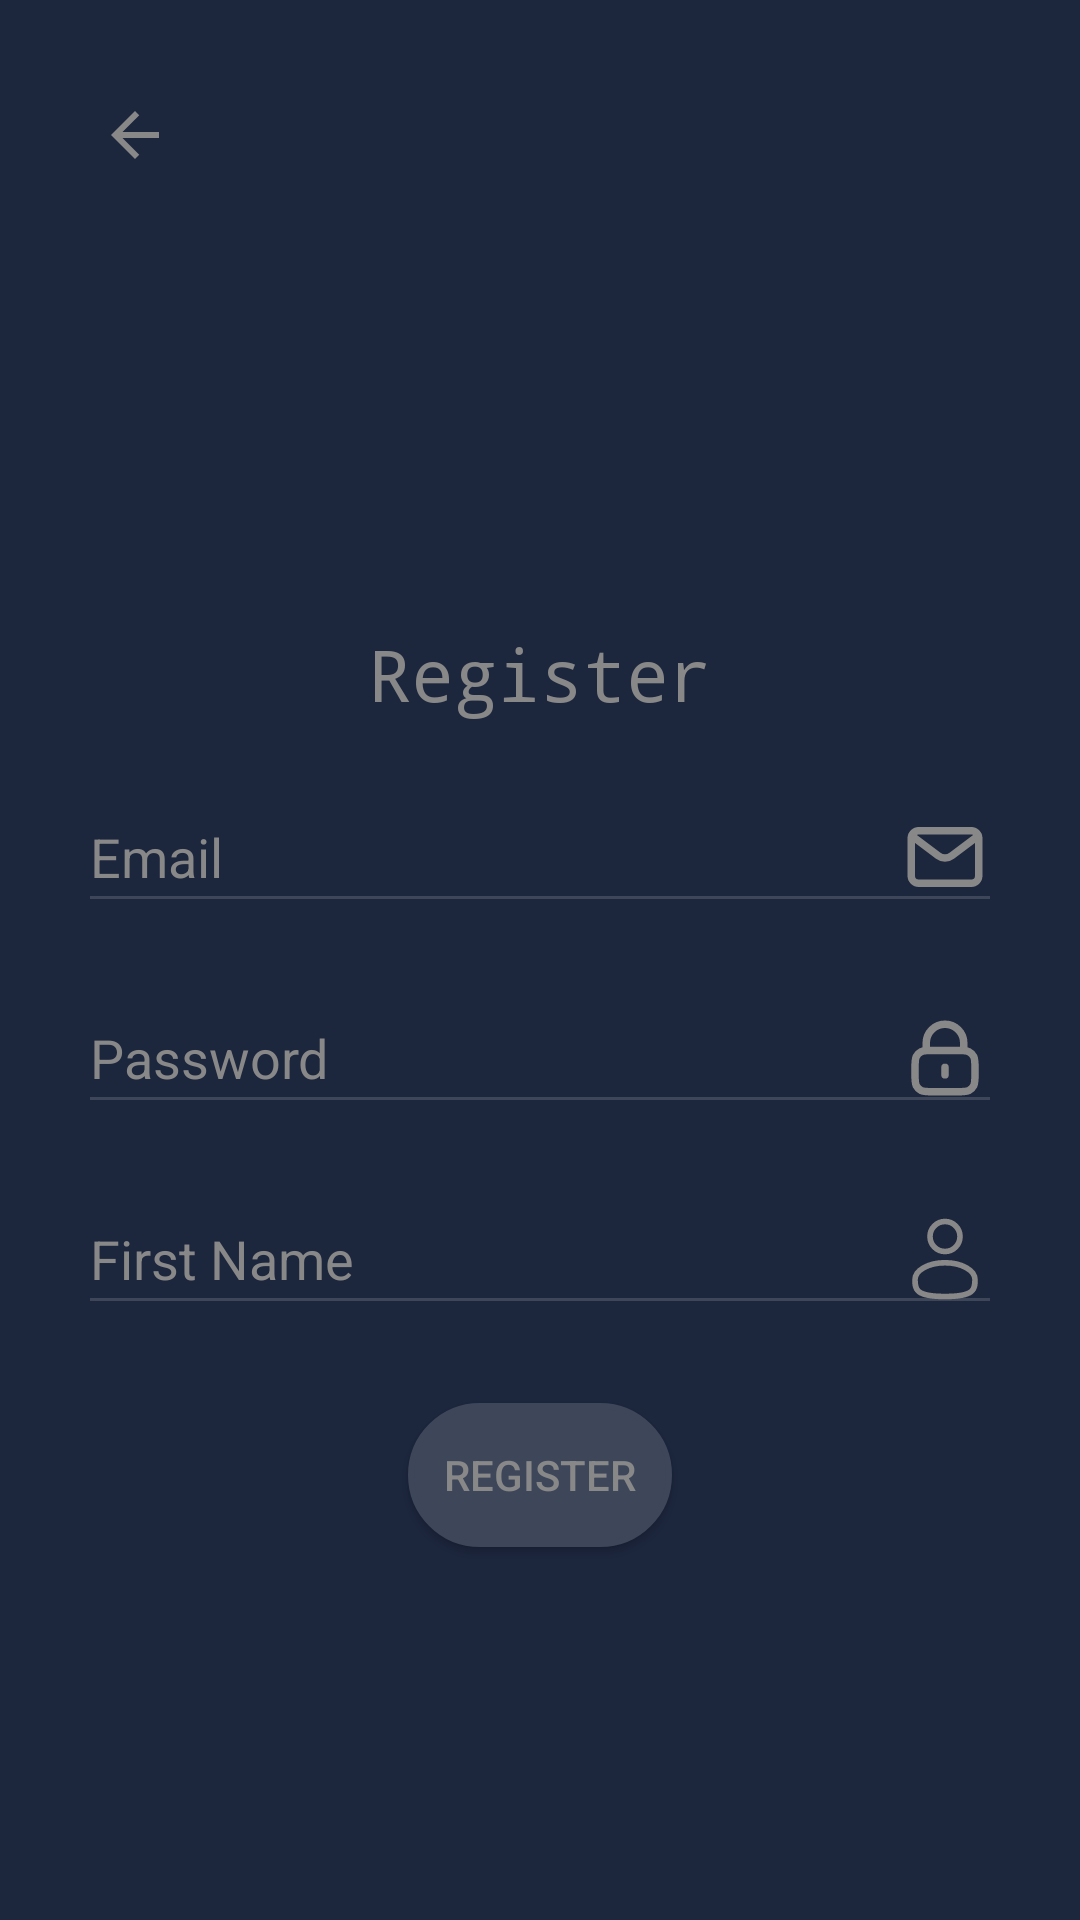

Icon click points for this 1080×1920 phone screenshot, format point (x, y):
Back: point (135, 135)
